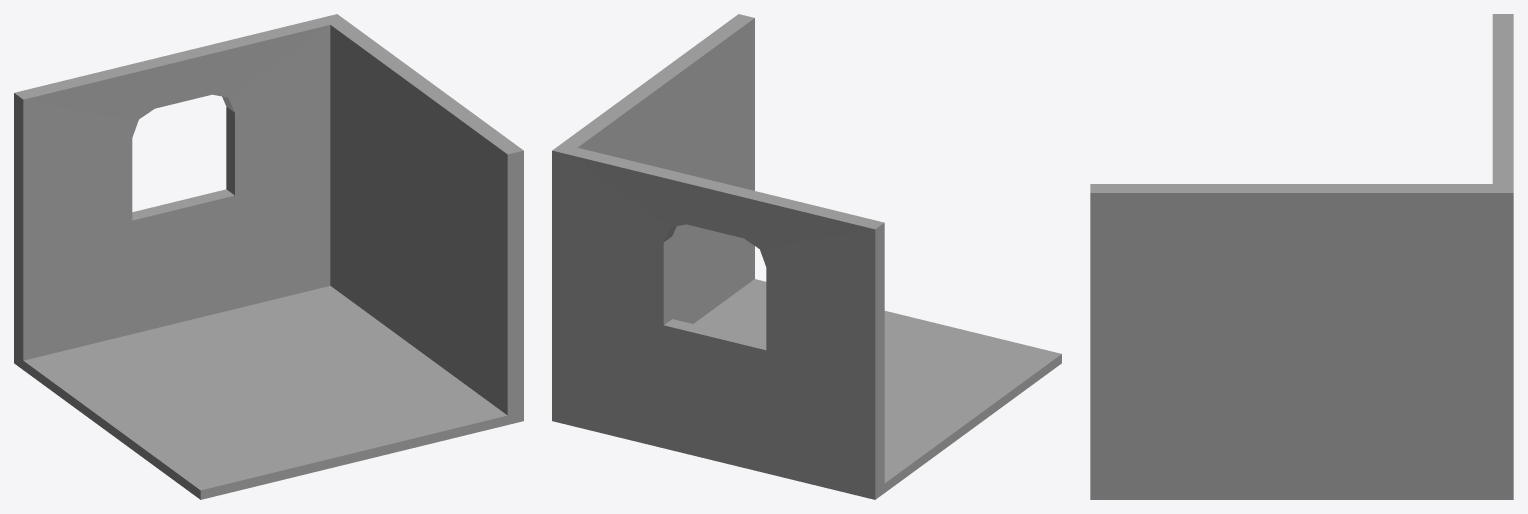
File: Wall_10.fbx
3 views of the same model, side by side, from view 1: azimuth 30°, elevation 25°; view 2: azimuth 150°, elevation 25°; view 3: azimuth 270°, elevation 25° (orthographic). The views are drawn at different scales.
Parts seen in each view (by area): view 1: Wall_10; view 2: Wall_10; view 3: Wall_10.
Part boxes in pixels (left/top/right/bottom): Wall_10: left=14, top=14, right=523, bottom=499; Wall_10: left=552, top=14, right=1061, bottom=499; Wall_10: left=1090, top=14, right=1513, bottom=499.
Size of the model in its own units: 3.8 by 3.04 by 3.8.
